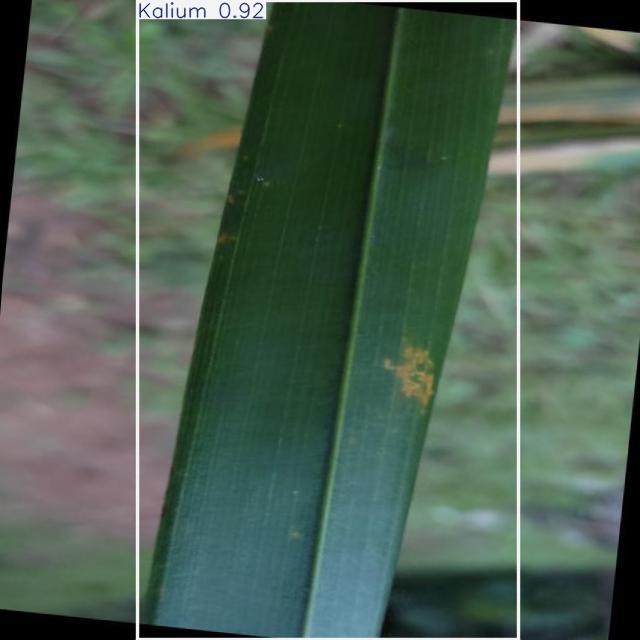Kalium: (137, 0, 518, 640)
